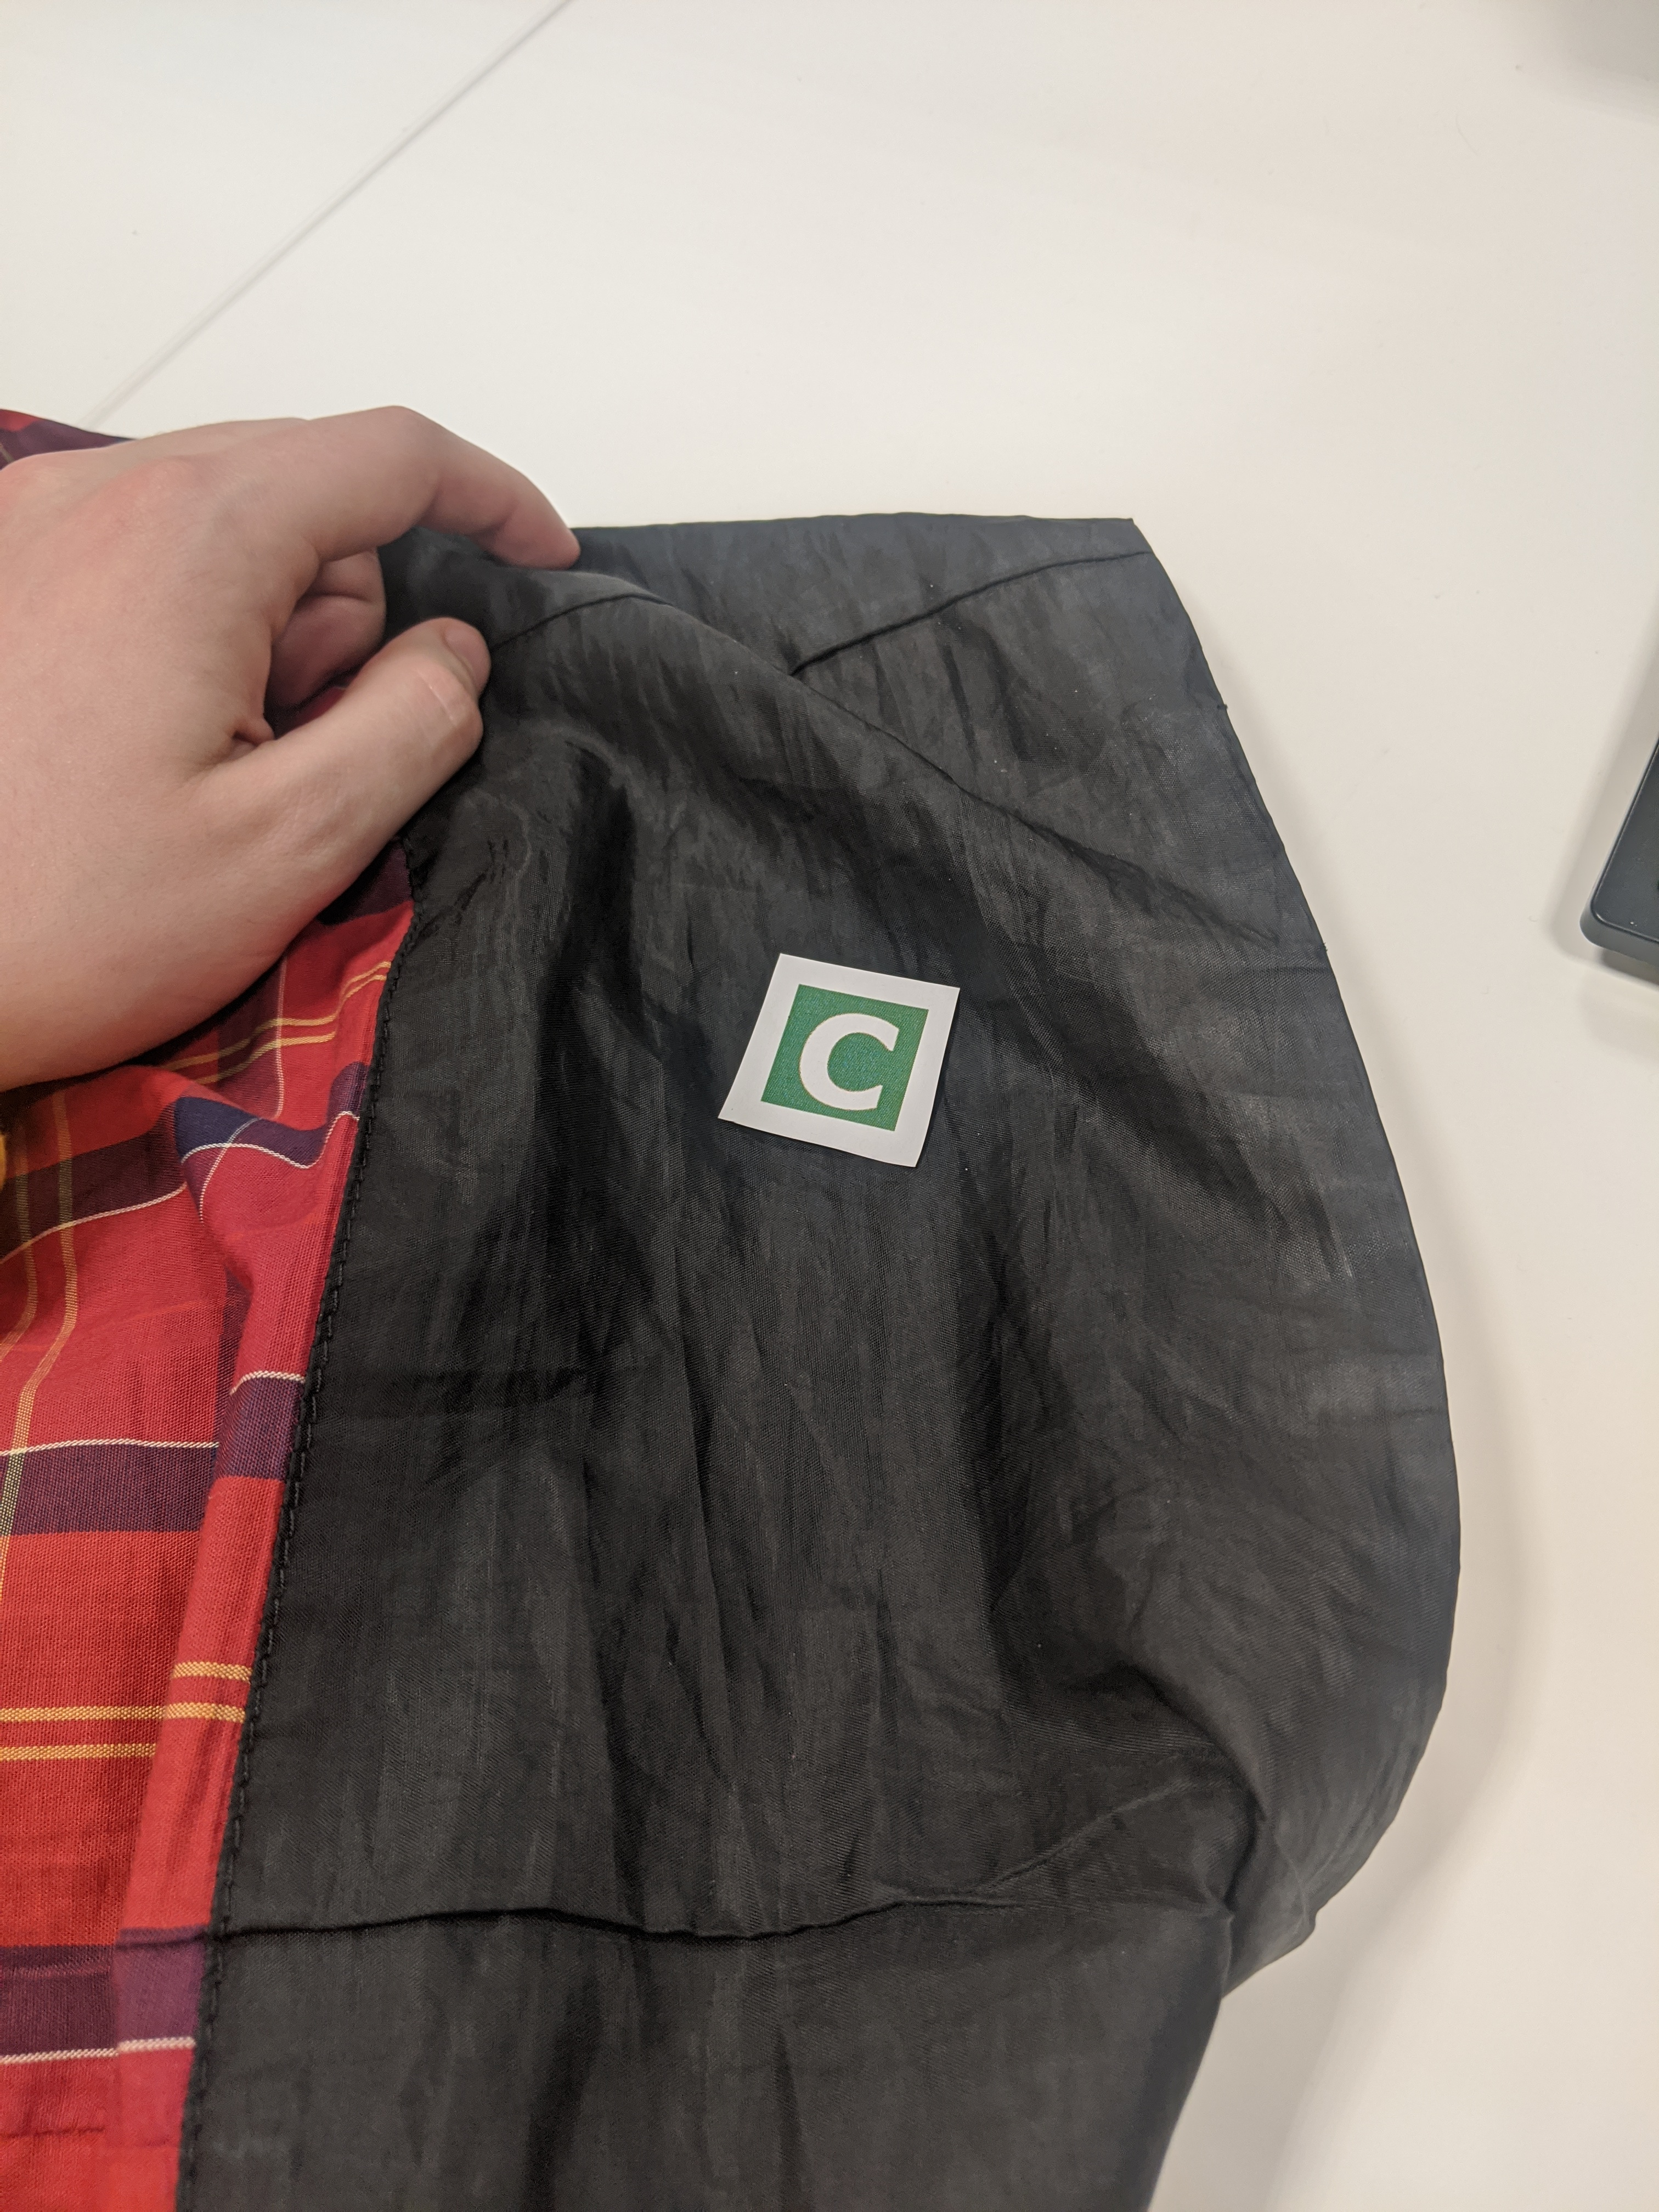green marker: (720, 928, 986, 1188)
